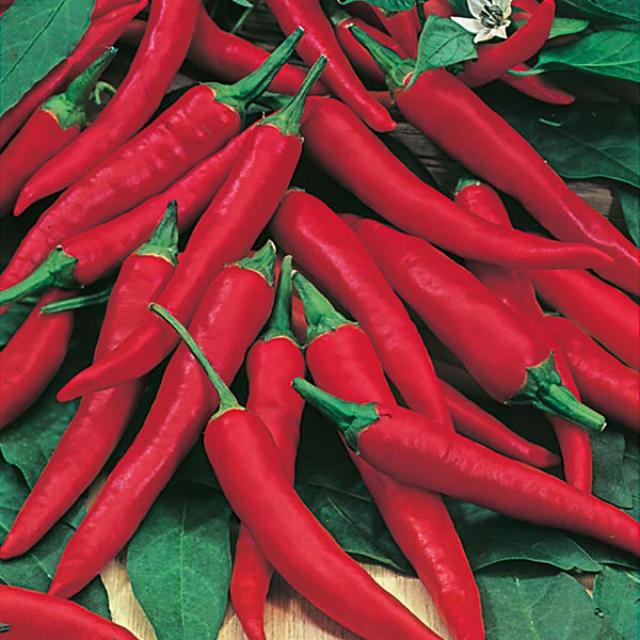Chilli Pepper: (0, 1, 632, 639), (0, 10, 422, 369), (155, 293, 455, 640), (64, 208, 292, 612), (299, 176, 617, 459), (283, 43, 615, 293), (332, 356, 624, 544)
